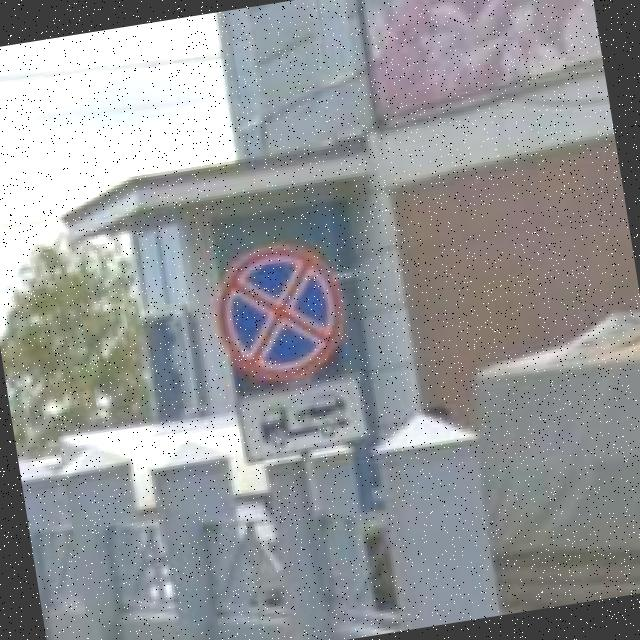Zakaz zatrzymywania sie: (203, 230, 359, 396)
